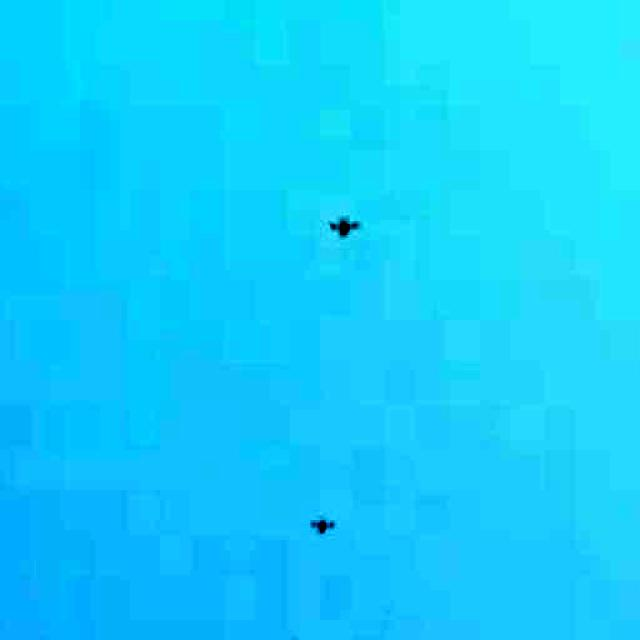bird: (324, 212, 361, 236)
